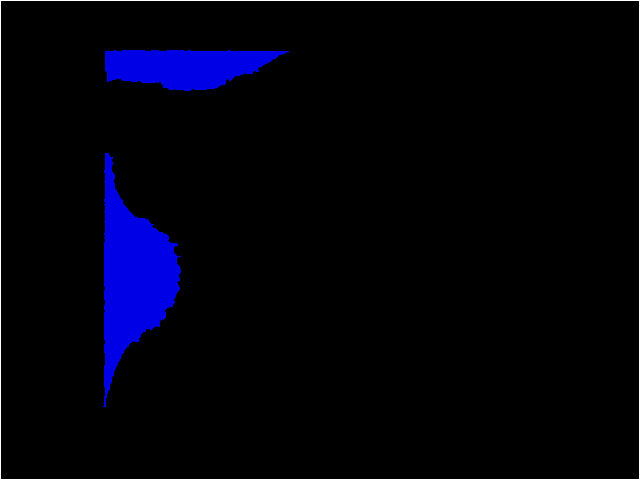defect: (102, 150, 183, 408), (103, 48, 290, 93)
